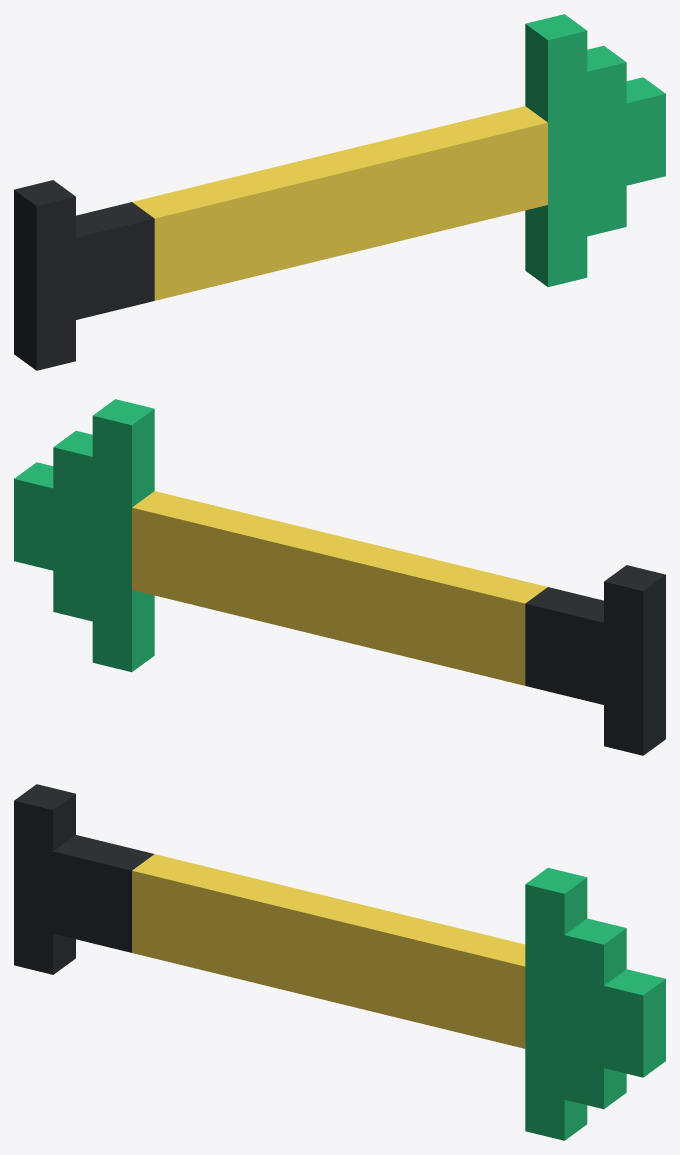
The model's file is Arrow_Upgraded.fbx.
3 views of the same model, one above another, from view 1: azimuth 30°, elevation 25°; view 2: azimuth 150°, elevation 25°; view 3: azimuth 330°, elevation 25° (orthographic).
Parts seen in each view (by area): view 1: generated; view 2: generated; view 3: generated.
Boxes of the visible parts, left/top/right/bottom form: generated: left=14, top=14, right=665, bottom=370; generated: left=14, top=399, right=665, bottom=755; generated: left=14, top=784, right=665, bottom=1140.
Size of the model in its own units: 160 by 60 by 10.
